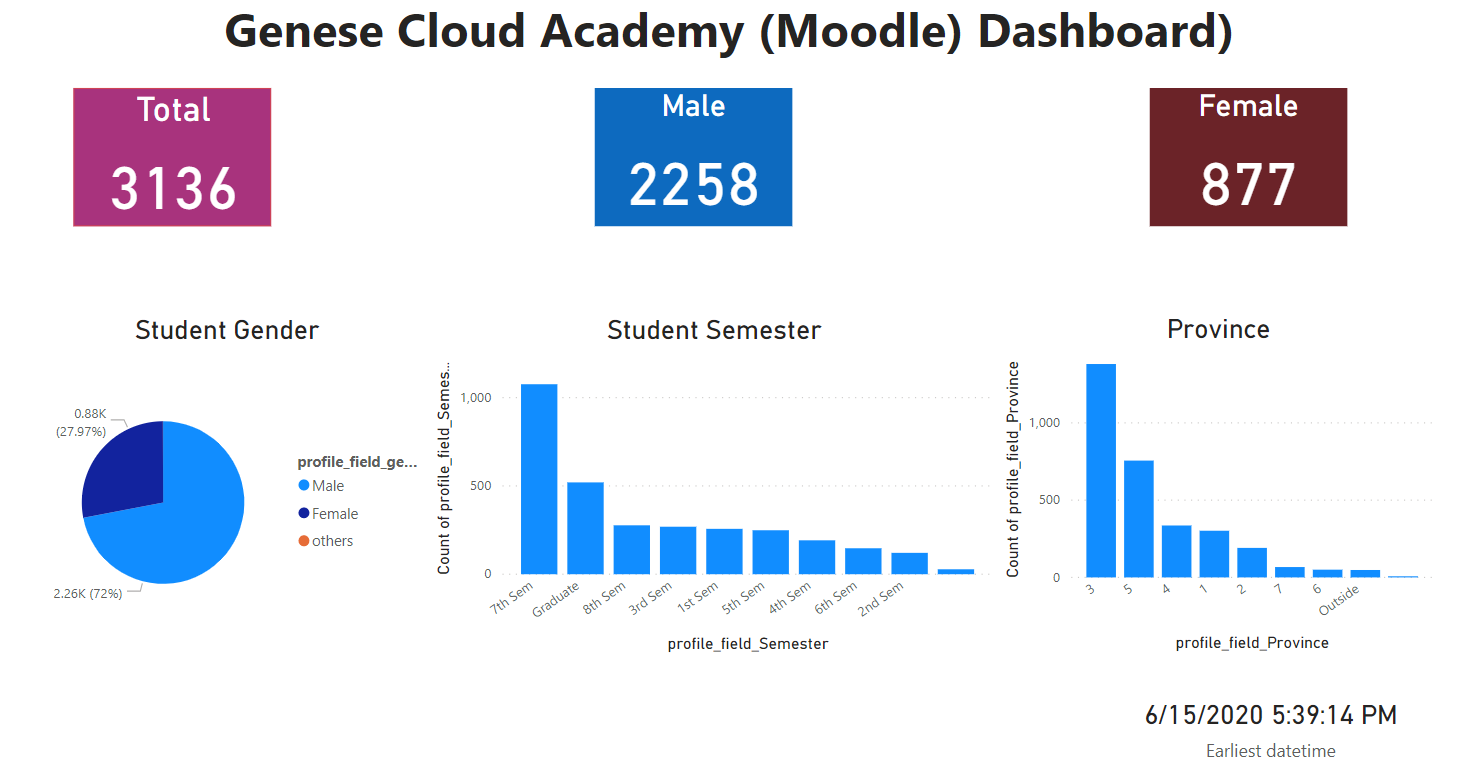

This screenshot's page, from the dashboard's own definition file:
{"tool":"powerbi","page":{"name":"Dashboard","canvas":[1280,720],"ordinal":0},"visuals":[{"type":"pieChart","title":"Student Gender","fields":{"Category":["user_latest.profile_field_gender1"],"Series":["user_latest.profile_field_gender1"],"Y":["CountNonNull(user_latest.profile_field_gender)"]},"box":[2.1,303.2,367.2,310.5],"z":0},{"type":"columnChart","title":"Student Semester","fields":{"Category":["user_latest.profile_field_Semester1"],"Y":["CountNonNull(user_latest.profile_field_Semester)1"]},"box":[369.4,303.2,513.4,310.5],"z":1000},{"type":"columnChart","title":"Province","fields":{"Category":["user_latest.profile_field_Province1"],"Y":["CountNonNull(user_latest.profile_field_Province)1"]},"box":[882.3,302.7,397.4,310.5],"z":2000},{"type":"card","title":"Total","fields":{"Values":["CountNonNull(user_latest.id)"]},"box":[47.1,98.8,178.8,124.4],"z":3000},{"type":"card","title":"Male","fields":{"Values":["CountNonNull(user_latest.profile_field_gender)"]},"box":[518.2,98.8,178.8,124.4],"z":4000},{"type":"card","title":"Female","fields":{"Values":["CountNonNull(user_latest.profile_field_gender)"]},"box":[1019.5,98.8,178.8,124.4],"z":5000},{"type":"textbox","box":[0,10.9,1279.3,72.5],"z":6000},{"type":"card","fields":{"Values":["Min(Kathmandu.datetime)"]},"box":[994.2,641.5,268.2,68.9],"z":7000}]}

Visuals, with their boxes on the page's 1280x720 design canvas (x1, y1, x2, y2). These are canvas units, not pixel positions in the 1471x771 screenshot, which may show the page scaled, cropped or inside an application window:
"Student Gender" pieChart: Rect(2, 303, 369, 614)
"Student Semester" columnChart: Rect(369, 303, 883, 614)
"Province" columnChart: Rect(882, 303, 1280, 613)
"Total" card: Rect(47, 99, 226, 223)
"Male" card: Rect(518, 99, 697, 223)
"Female" card: Rect(1020, 99, 1198, 223)
textbox: Rect(0, 11, 1279, 83)
card - Min(Kathmandu.datetime): Rect(994, 642, 1262, 710)
